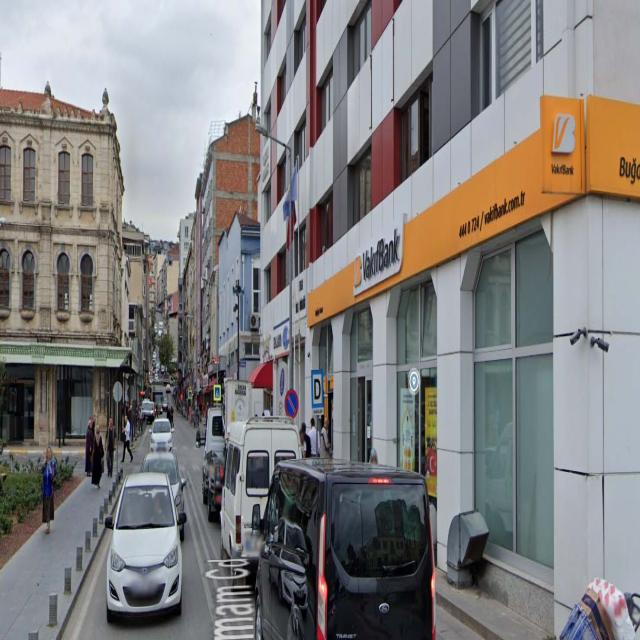durak: (312, 372, 324, 405)
parkyasak: (286, 390, 298, 419)
